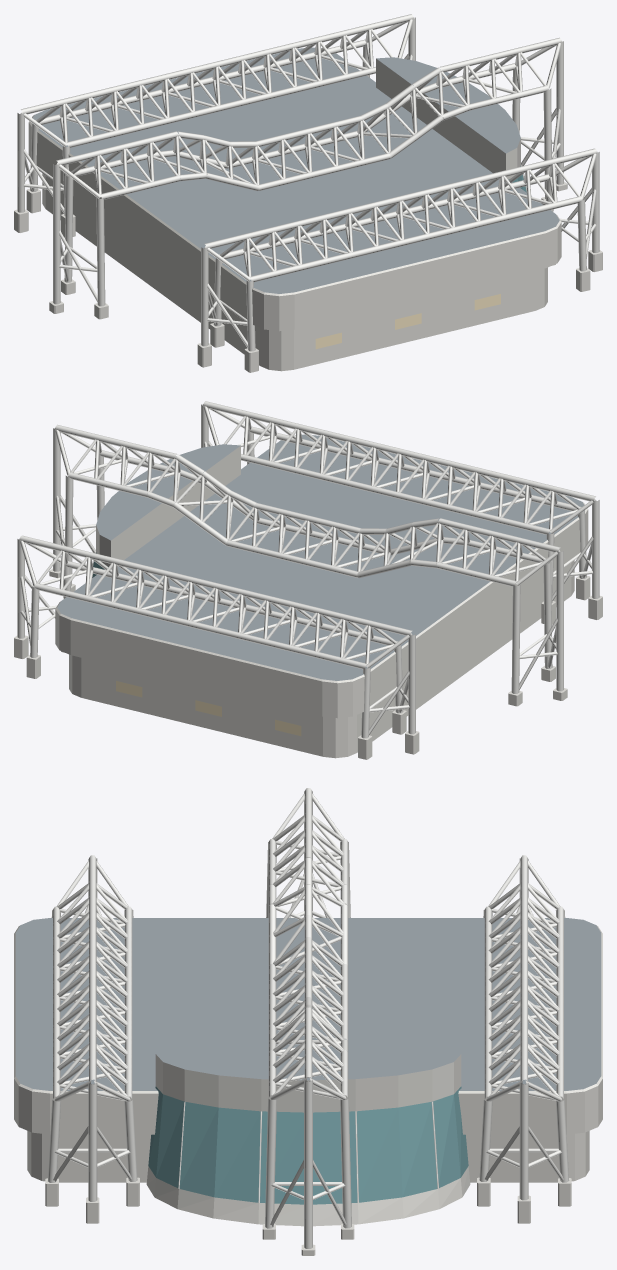
The model's file is kc-hy-vee-arena.glb.
3 renders of one model, top to bottom at view 1: azimuth 30°, elevation 25°; view 2: azimuth 150°, elevation 25°; view 3: azimuth 270°, elevation 25°, orthographic. The views are drawn at different scales.
Visible parts, largest first — view 1: Hy-Vee Arena; view 2: Hy-Vee Arena; view 3: Hy-Vee Arena.
Boxes of the visible parts, left/top/right/bottom form: Hy-Vee Arena: left=14, top=14, right=602, bottom=372; Hy-Vee Arena: left=14, top=401, right=602, bottom=759; Hy-Vee Arena: left=14, top=788, right=602, bottom=1255.
Size of the model in its own units: 155 by 43.24 by 131.
